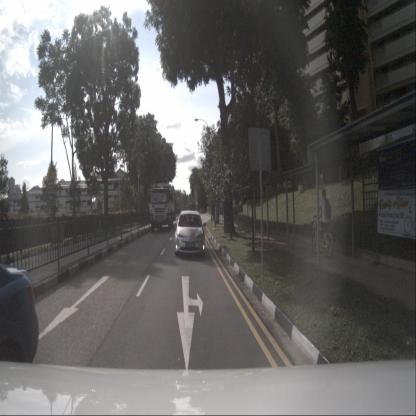vehicle-bicycle: (312, 189, 334, 259)
vehicle-bus-rigid: (189, 203, 195, 216)
vehicle-car: (0, 262, 40, 393), (175, 210, 205, 258)
vehicle-truck: (150, 183, 175, 232)
